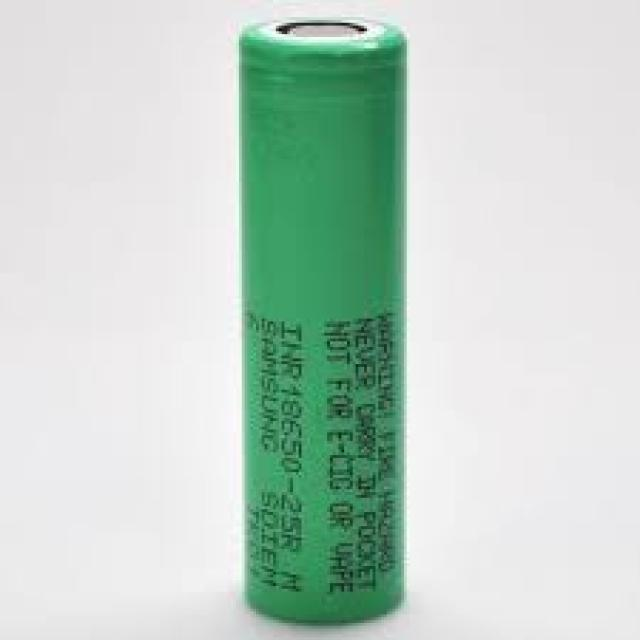Battery: (239, 11, 409, 628)
